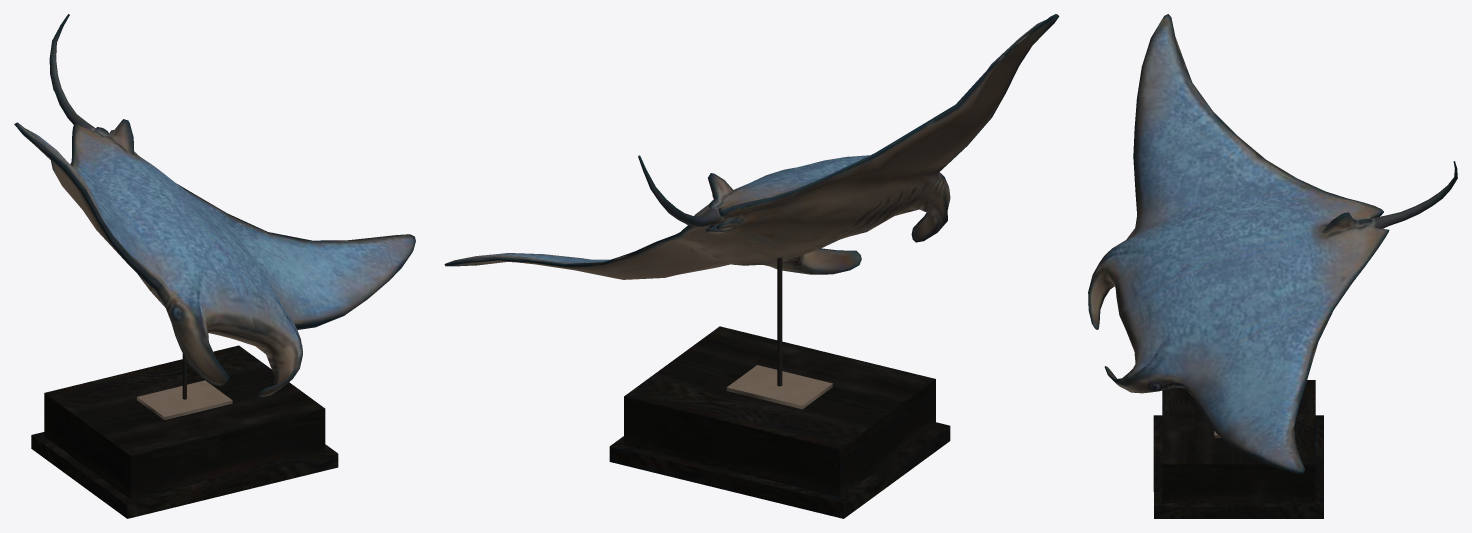
The model's file is bronze_ray_statue.gltf.
3 renders of one model, left to right at view 1: azimuth 30°, elevation 25°; view 2: azimuth 150°, elevation 25°; view 3: azimuth 270°, elevation 25°, orthographic. The views are drawn at different scales.
Visible parts, largest first — view 1: bronze_ray_statue; view 2: bronze_ray_statue; view 3: bronze_ray_statue.
Part boxes in pixels (bbox=[...]): bronze_ray_statue: bbox=[14, 14, 415, 518]; bronze_ray_statue: bbox=[444, 14, 1059, 518]; bronze_ray_statue: bbox=[1088, 14, 1457, 518].
Bounding box in the file's own units: 0.7075 × 0.5896 × 0.5355.
Materials: 1 (1 with a texture image).
